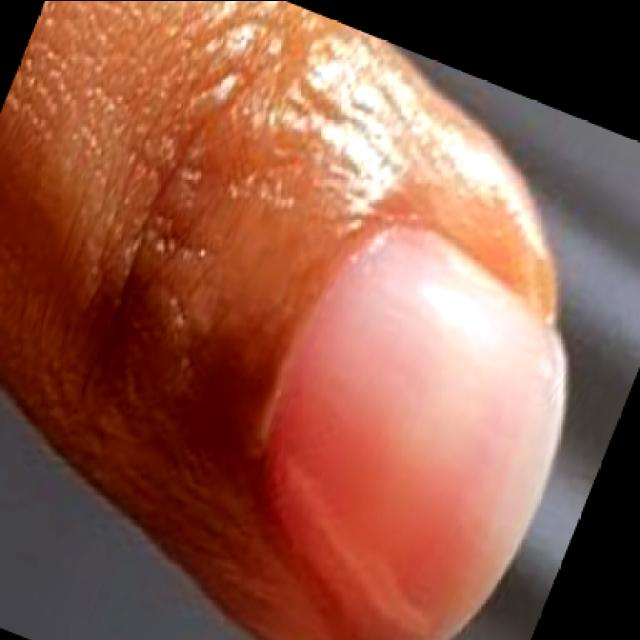Nail: (258, 219, 563, 640)
